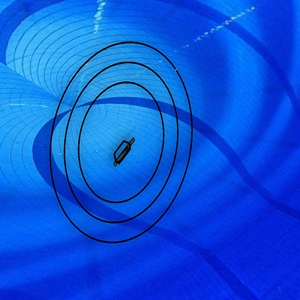circle: (47, 39, 197, 249)
submarine: (111, 134, 138, 169)
